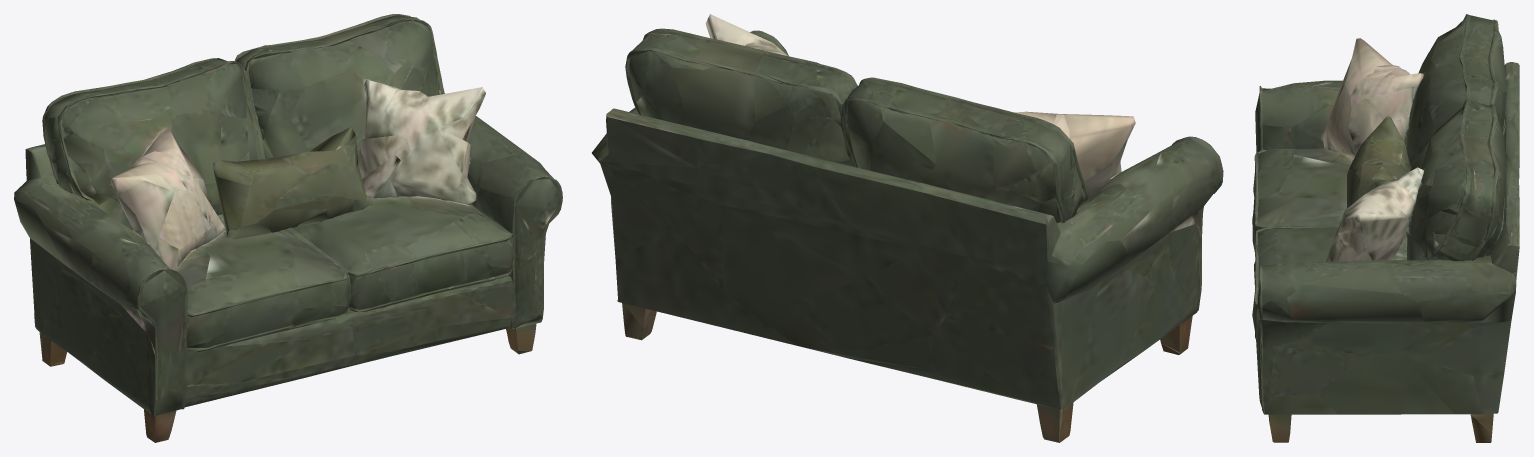
File: sofa.glb
3 views of the same model, side by side, from view 1: azimuth 30°, elevation 25°; view 2: azimuth 150°, elevation 25°; view 3: azimuth 270°, elevation 25° (orthographic). The views are drawn at different scales.
Visible parts, largest first — view 1: Mesh_0; view 2: Mesh_0; view 3: Mesh_0.
Part boxes in pixels (left/top/right/bottom): Mesh_0: left=14, top=14, right=562, bottom=442; Mesh_0: left=592, top=14, right=1223, bottom=442; Mesh_0: left=1252, top=14, right=1519, bottom=442.
Bounding box in the file's own units: 1.89 × 1.12 × 1.04.
Materials: 1 (1 with a texture image).
